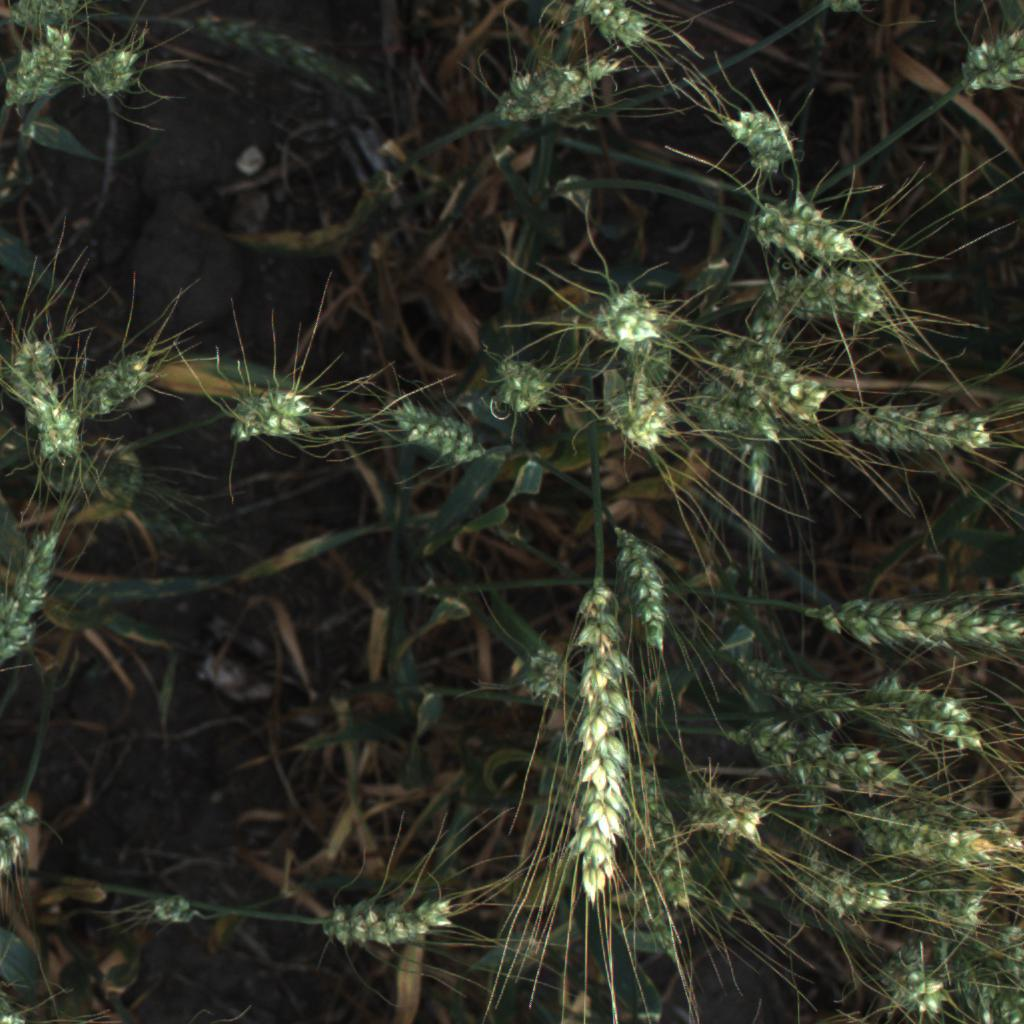0-0: (557, 585, 641, 908), (705, 717, 928, 803), (808, 581, 1024, 661), (190, 13, 374, 99), (303, 875, 476, 962), (837, 796, 1019, 869), (622, 748, 695, 916), (704, 87, 817, 187), (492, 53, 630, 131), (852, 394, 1003, 464), (857, 678, 990, 757), (721, 653, 856, 728), (0, 515, 63, 674), (608, 521, 675, 652), (774, 856, 895, 925), (749, 191, 858, 267), (674, 776, 770, 856), (390, 397, 494, 470), (478, 346, 561, 429), (557, 0, 666, 62), (727, 346, 815, 421), (765, 272, 882, 327), (745, 308, 779, 496), (584, 282, 670, 356), (2, 26, 76, 111), (888, 884, 997, 941), (231, 377, 319, 445), (613, 371, 680, 453), (80, 351, 157, 416), (953, 29, 1024, 99), (509, 643, 579, 713), (955, 951, 1024, 1021), (885, 961, 957, 1022), (0, 781, 41, 885), (81, 48, 153, 104), (26, 397, 88, 462), (4, 327, 57, 399), (701, 382, 770, 437), (6, 0, 76, 33), (713, 332, 767, 374), (151, 894, 200, 926), (823, 0, 870, 21), (2, 1009, 31, 1024)
